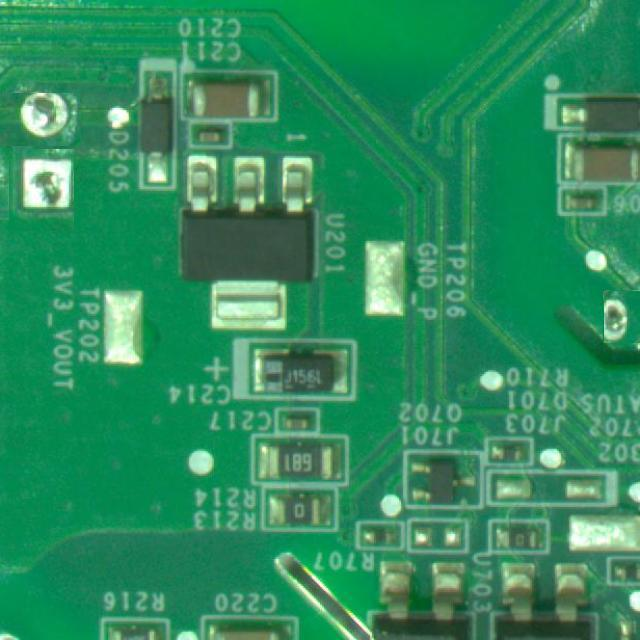lack_of_part: (4, 154, 78, 228), (0, 94, 81, 148), (603, 290, 640, 343)
